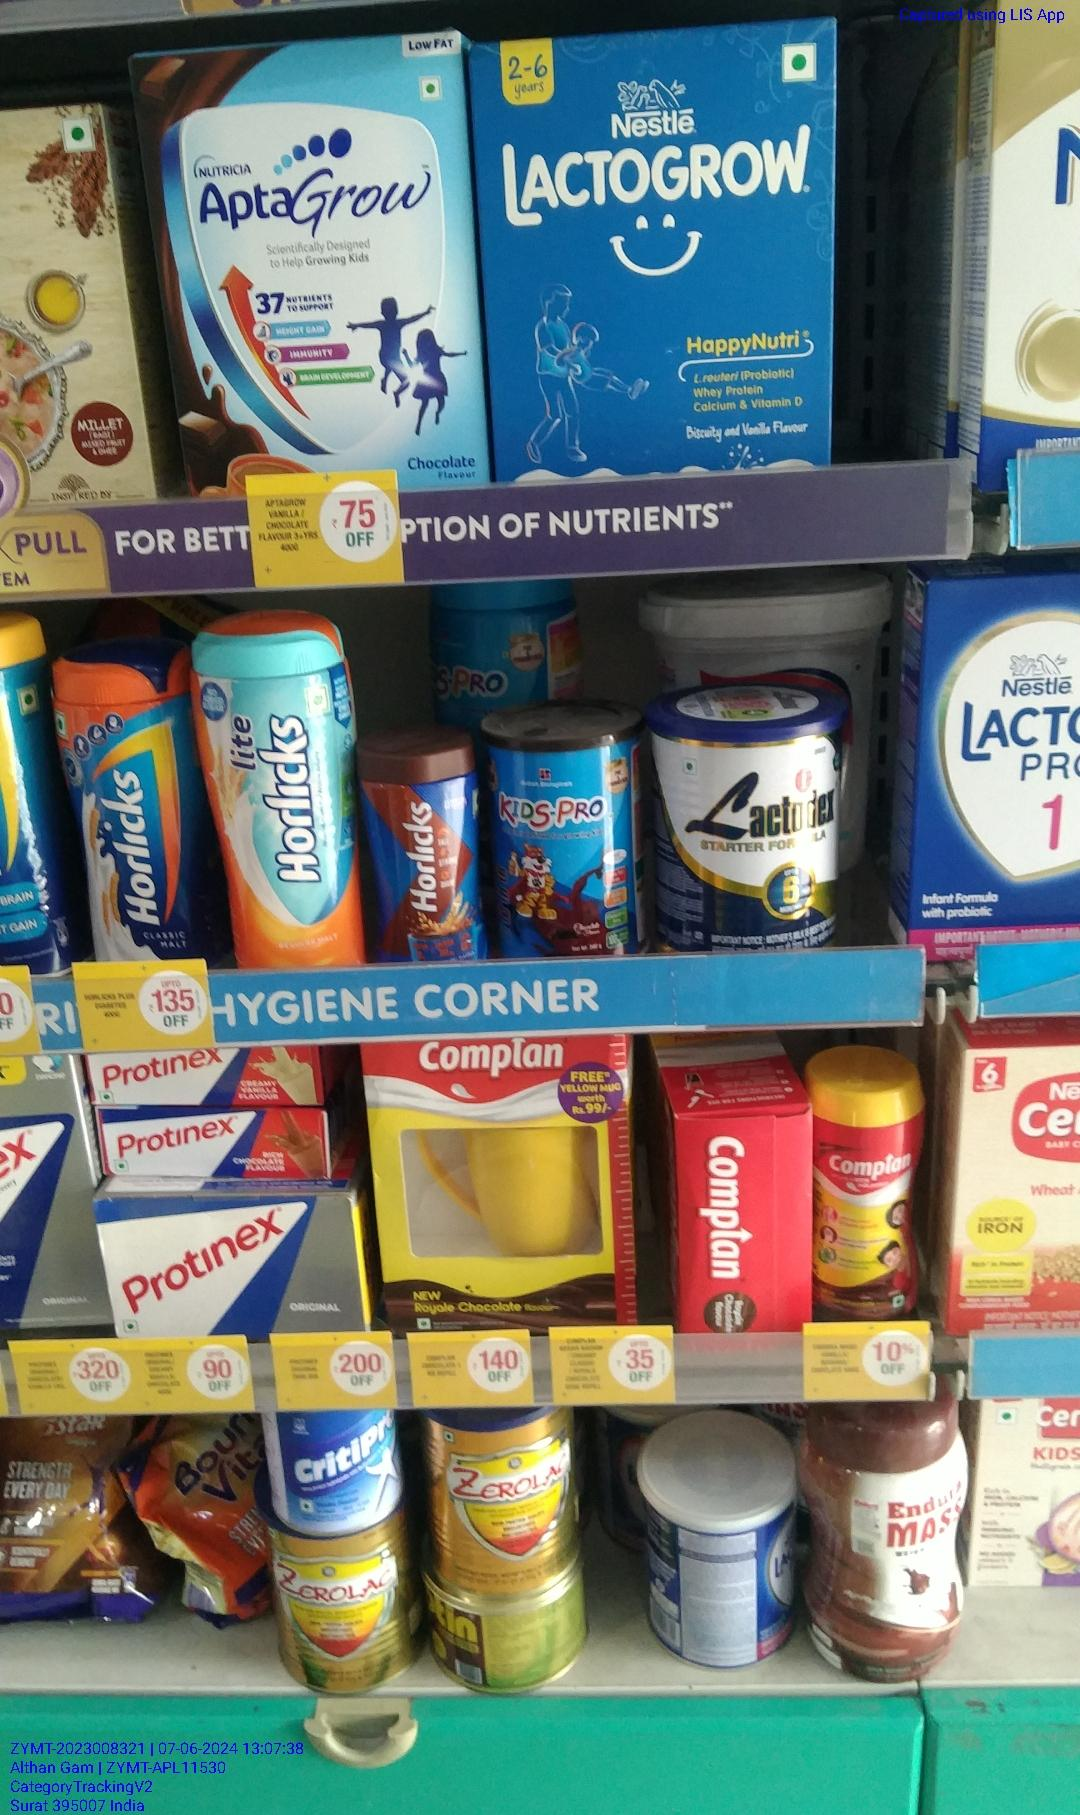COMPLAN_CHOCOLATE_200_GMS_JAR: (816, 1085, 932, 1328)
HORLICKS_LITE_REGULAR_MALT_500_GM_JAR: (201, 631, 348, 977)
HORLICK_CHOCOLATE_200_G_JAR: (370, 751, 492, 963)
HORLICK_CLASSIC_MALT_500_G_JAR: (64, 657, 190, 973)
